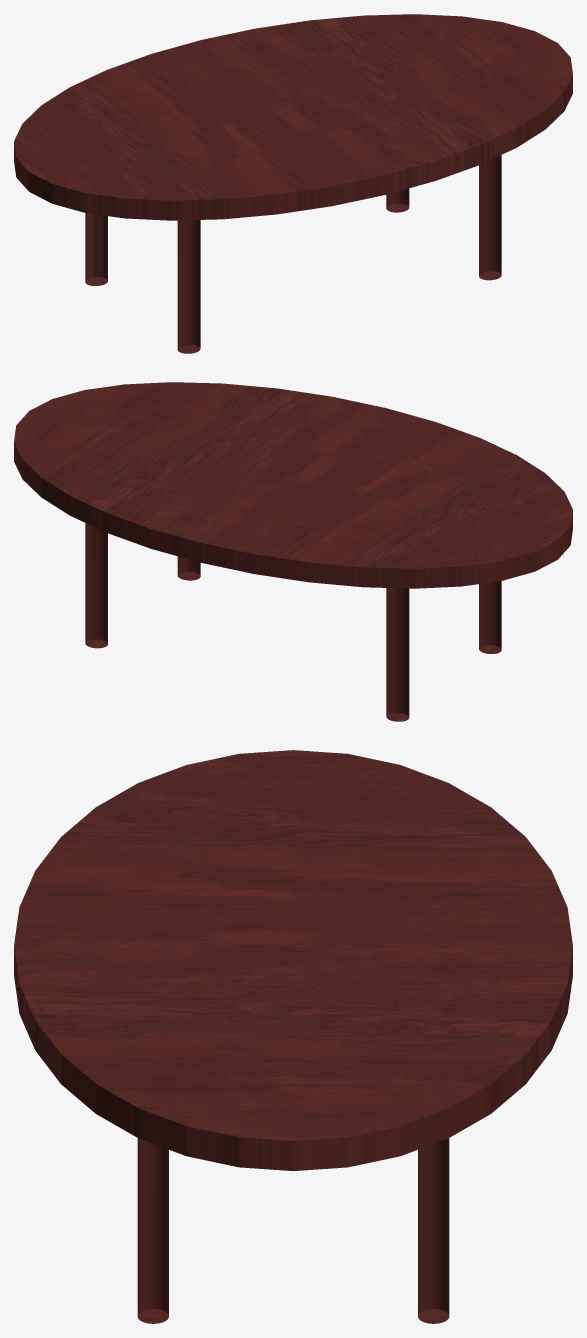
File: Table.fbx
3 renders of one model, top to bottom at view 1: azimuth 30°, elevation 25°; view 2: azimuth 150°, elevation 25°; view 3: azimuth 270°, elevation 25°, orthographic. The views are drawn at different scales.
Visible parts, largest first — view 1: Cylinder; view 2: Cylinder; view 3: Cylinder.
Boxes of the visible parts, x1,y1,x2,y2 form: Cylinder: [14, 14, 572, 353]; Cylinder: [14, 382, 572, 721]; Cylinder: [14, 750, 572, 1323].
Size of the model in its own units: 303 by 93.73 by 183.
Materials: 1 (1 with a texture image).
